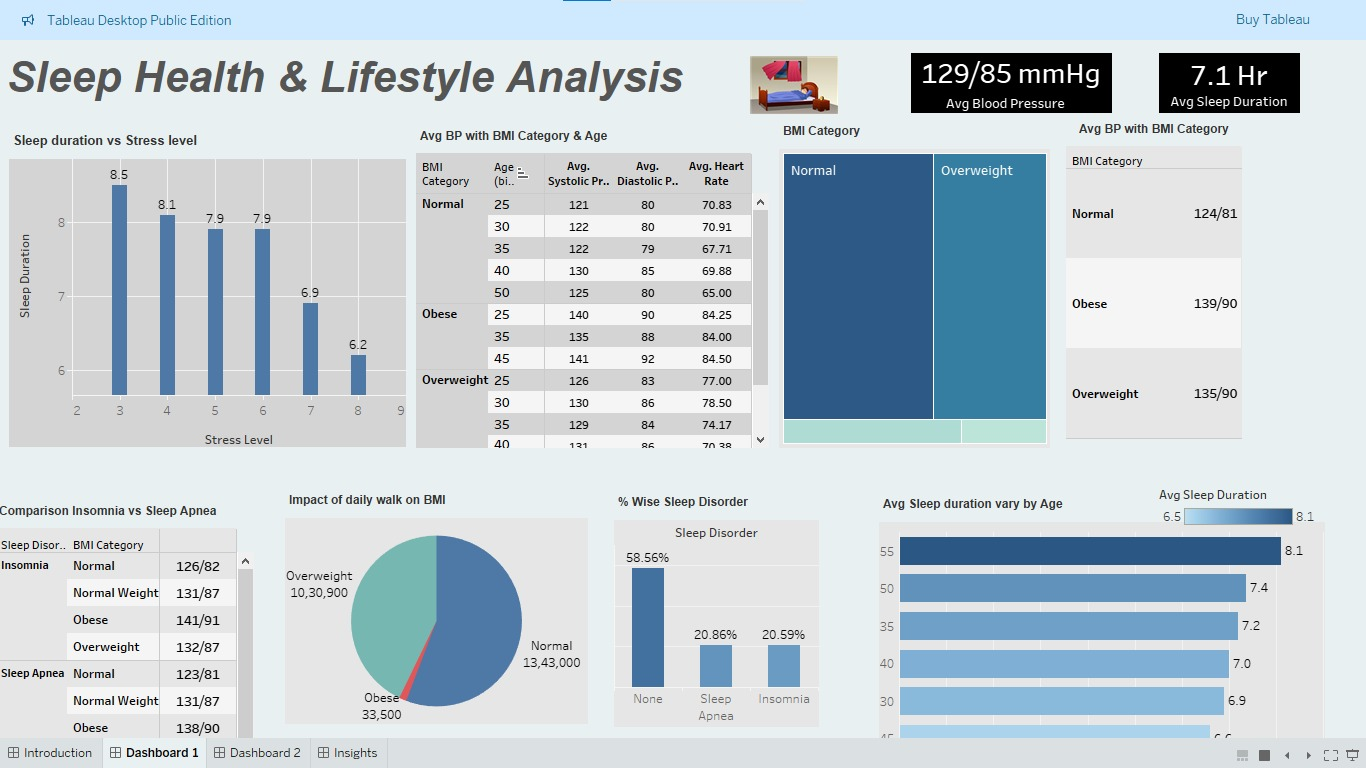

The dashboard page shown, as its layout file describes it:
{"tool":"tableau","page":{"name":"Dashboard 1","canvas":[1000,1000],"units":"permille","ordinal":0},"visuals":[{"type":"image","param":"C:/Users/Admin/AppData/Local/Temp/TableauTemp/0je6del1kbercb153dpda1hmg1us/Sheet","box":[549.2,12.7,64.2,105.1]},{"type":"worksheet","title":"Avg BP","mark":"Automatic","box":[666.7,18.1,190.5,106.9]},{"type":"worksheet","title":"Avg Sleep Duration KPI","mark":"Automatic","box":[848.5,18.1,122.1,121.4]},{"type":"image","param":"C:/Users/Admin/AppData/Local/Temp/TableauTemp/0igd9jr0xf58v80zz5rdt13cz1wg/Sheet","box":[602.6,23.6,57.1,97.8]},{"type":"image","param":"C:/Users/Admin/AppData/Local/Temp/TableauTemp/0ljkfme0ncgw1a1gt38mw1hskxg5/Sheet","box":[144.6,99.6,45.9,63.4]},{"type":"worksheet","title":"Avg BP with BMI Category","mark":"Text","rows":["BMI Category"],"box":[780.6,112.3,172.4,532.6]},{"type":"worksheet","title":"BMI Category","mark":"Automatic","box":[570.1,114.1,198.5,543.5]},{"type":"worksheet","title":"Avg BP with BMI Category & Age","mark":"Automatic","rows":["BMI Category","Age (bin)"],"box":[304.5,121.4,318.7,463.8]},{"type":"worksheet","title":"Sleep duration vs Stress level","mark":"Bar","rows":["Sleep Duration"],"cols":["Stress Level"],"box":[6.7,126.8,290.3,456.5]},{"type":"legend","title":"Avg Sleep duration vary by Age","param":"[federated.13z7ogj04ihe1u17z7rpf0tbf6dz].[usr:Calculation_318911204303634432:qk]","box":[848.5,639.5,117.2,72.5]},{"type":"worksheet","title":"Impact of daily walk on BMI","mark":"Pie","box":[209,643.1,221.6,337]},{"type":"worksheet","title":"% Wise Sleep Disorder ","mark":"Automatic","cols":["Sleep Disorder"],"box":[449.2,646.7,175.4,338.8]}]}

Visuals, with their boxes on the dashboard's canvas, which has no fixed pixel size, in thousandths of its width and height (x1, y1, x2, y2). These are canvas units, not pixel positions in the 1366x768 screenshot, which may show the page scaled, cropped or inside an application window:
image: (549,13,613,118)
"Avg BP" worksheet: (667,18,857,125)
"Avg Sleep Duration KPI" worksheet: (848,18,971,140)
image: (603,24,660,121)
image: (145,100,190,163)
"Avg BP with BMI Category" worksheet (Text marks): (781,112,953,645)
"BMI Category" worksheet: (570,114,769,658)
"Avg BP with BMI Category & Age" worksheet: (304,121,623,585)
"Sleep duration vs Stress level" worksheet (Bar marks): (7,127,297,583)
"Avg Sleep duration vary by Age" legend: (848,640,966,712)
"Impact of daily walk on BMI" worksheet (Pie marks): (209,643,431,980)
"% Wise Sleep Disorder " worksheet: (449,647,625,986)
